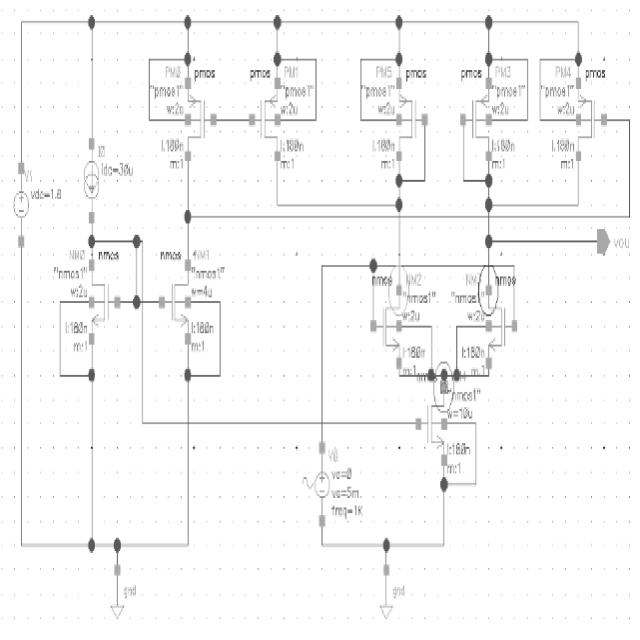gnd: (108, 560, 124, 627), (376, 563, 394, 621)
idc: (79, 134, 101, 225)
nmos: (88, 257, 123, 349), (484, 286, 518, 376), (158, 262, 191, 352), (370, 287, 404, 372), (416, 383, 448, 468)
pmos: (183, 77, 219, 166), (248, 78, 282, 164), (394, 78, 426, 168), (574, 80, 608, 162), (459, 80, 492, 164)
vdc: (10, 160, 32, 250)
vsin: (299, 444, 331, 528)
